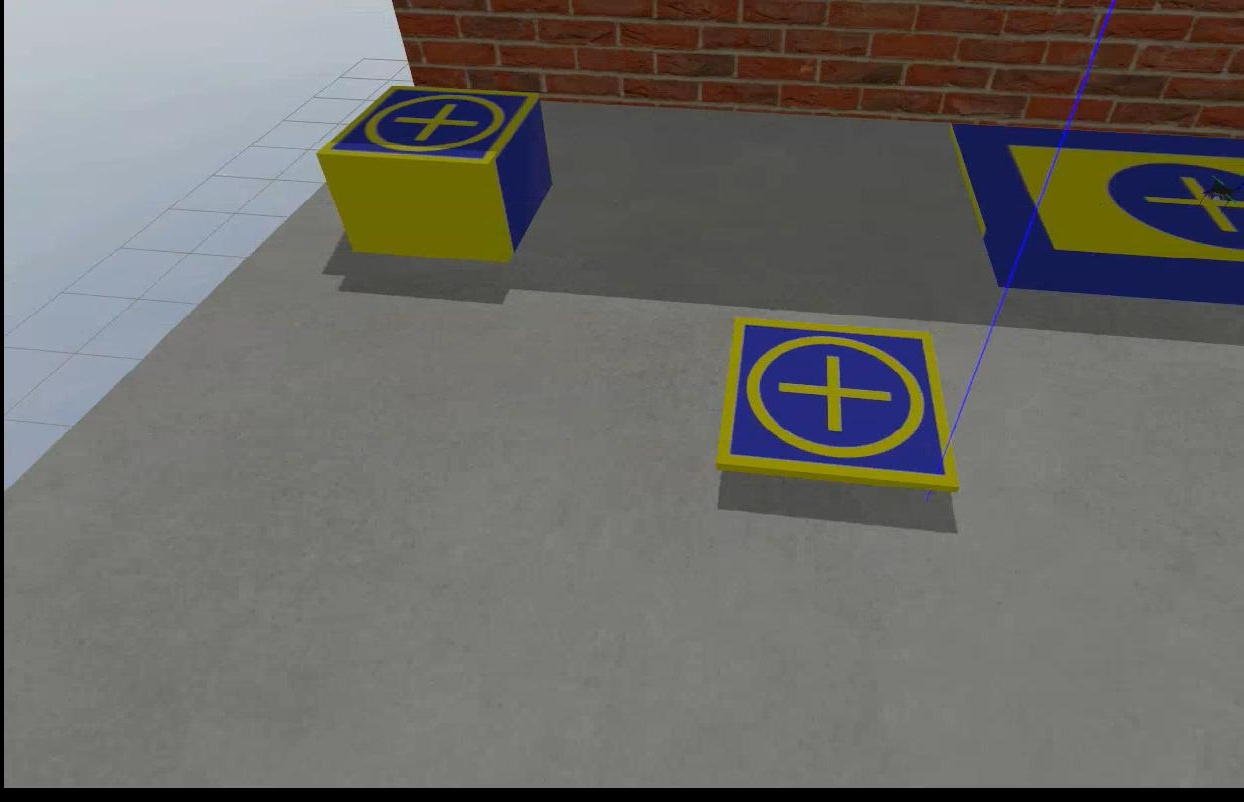large_base: (946, 118, 1242, 297)
small_base: (714, 317, 950, 491), (314, 91, 539, 166)
